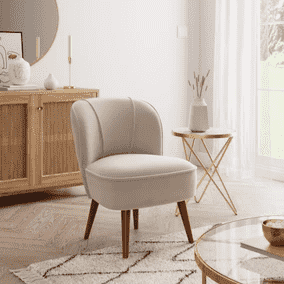chair: (67, 93, 195, 256)
